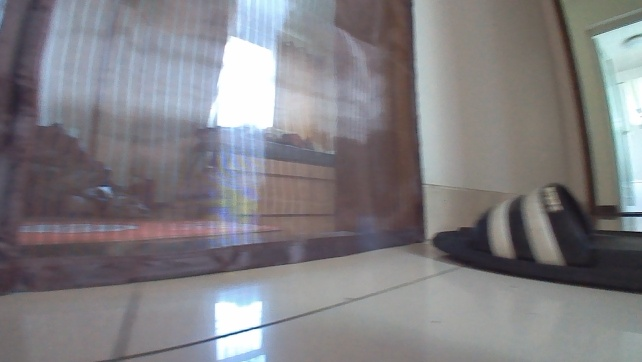slipper: (431, 181, 641, 296)
